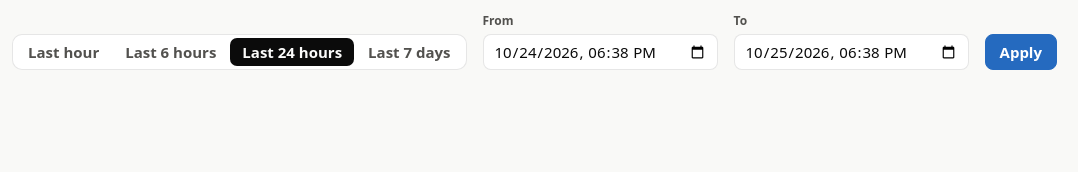
Test case: DateRangeFilter › explains an invalid range instead of applying it
Replace the text in the field labelled "From" with "2026-10-19T10:00" at (600, 52), box [482,34,718,70]
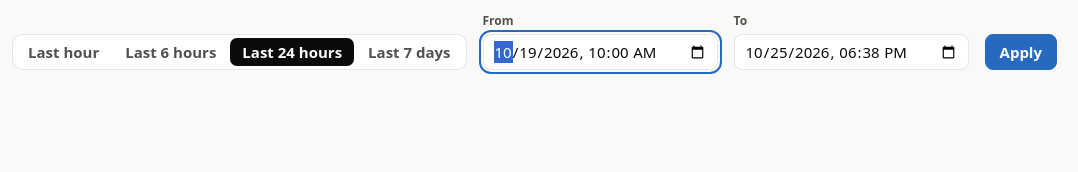
Replace the text in the field labelled "To" with "2026-10-19T09:00" at (851, 52), box [734,34,968,70]
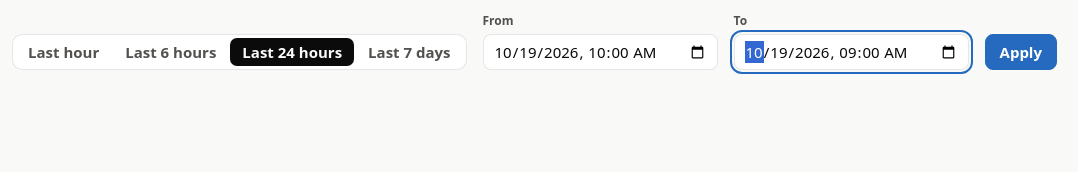
Click the button "Apply".
click(1021, 52)  # box [984,34,1057,70]
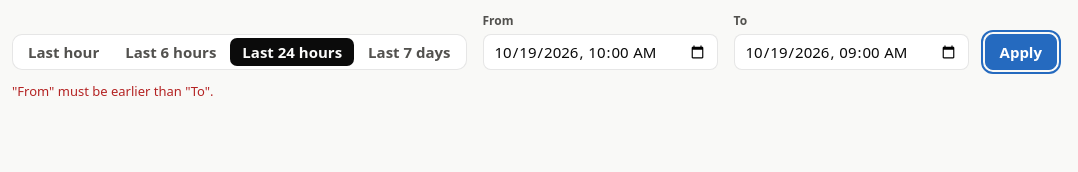
Now the message reads "\"From\" must be earlier than \"To\".", box [12,82,214,100]
